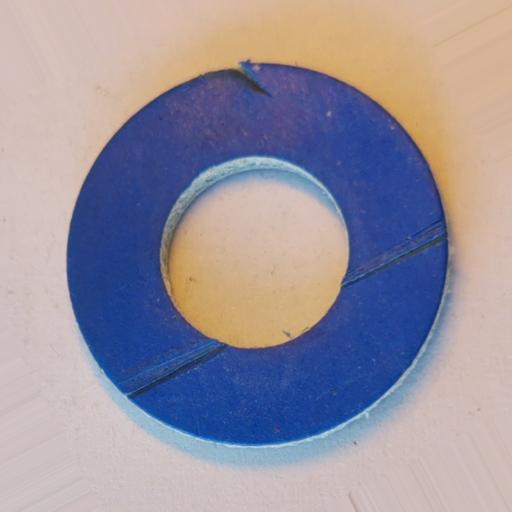defect: (341, 218, 448, 287), (118, 340, 227, 399), (231, 61, 274, 99)
